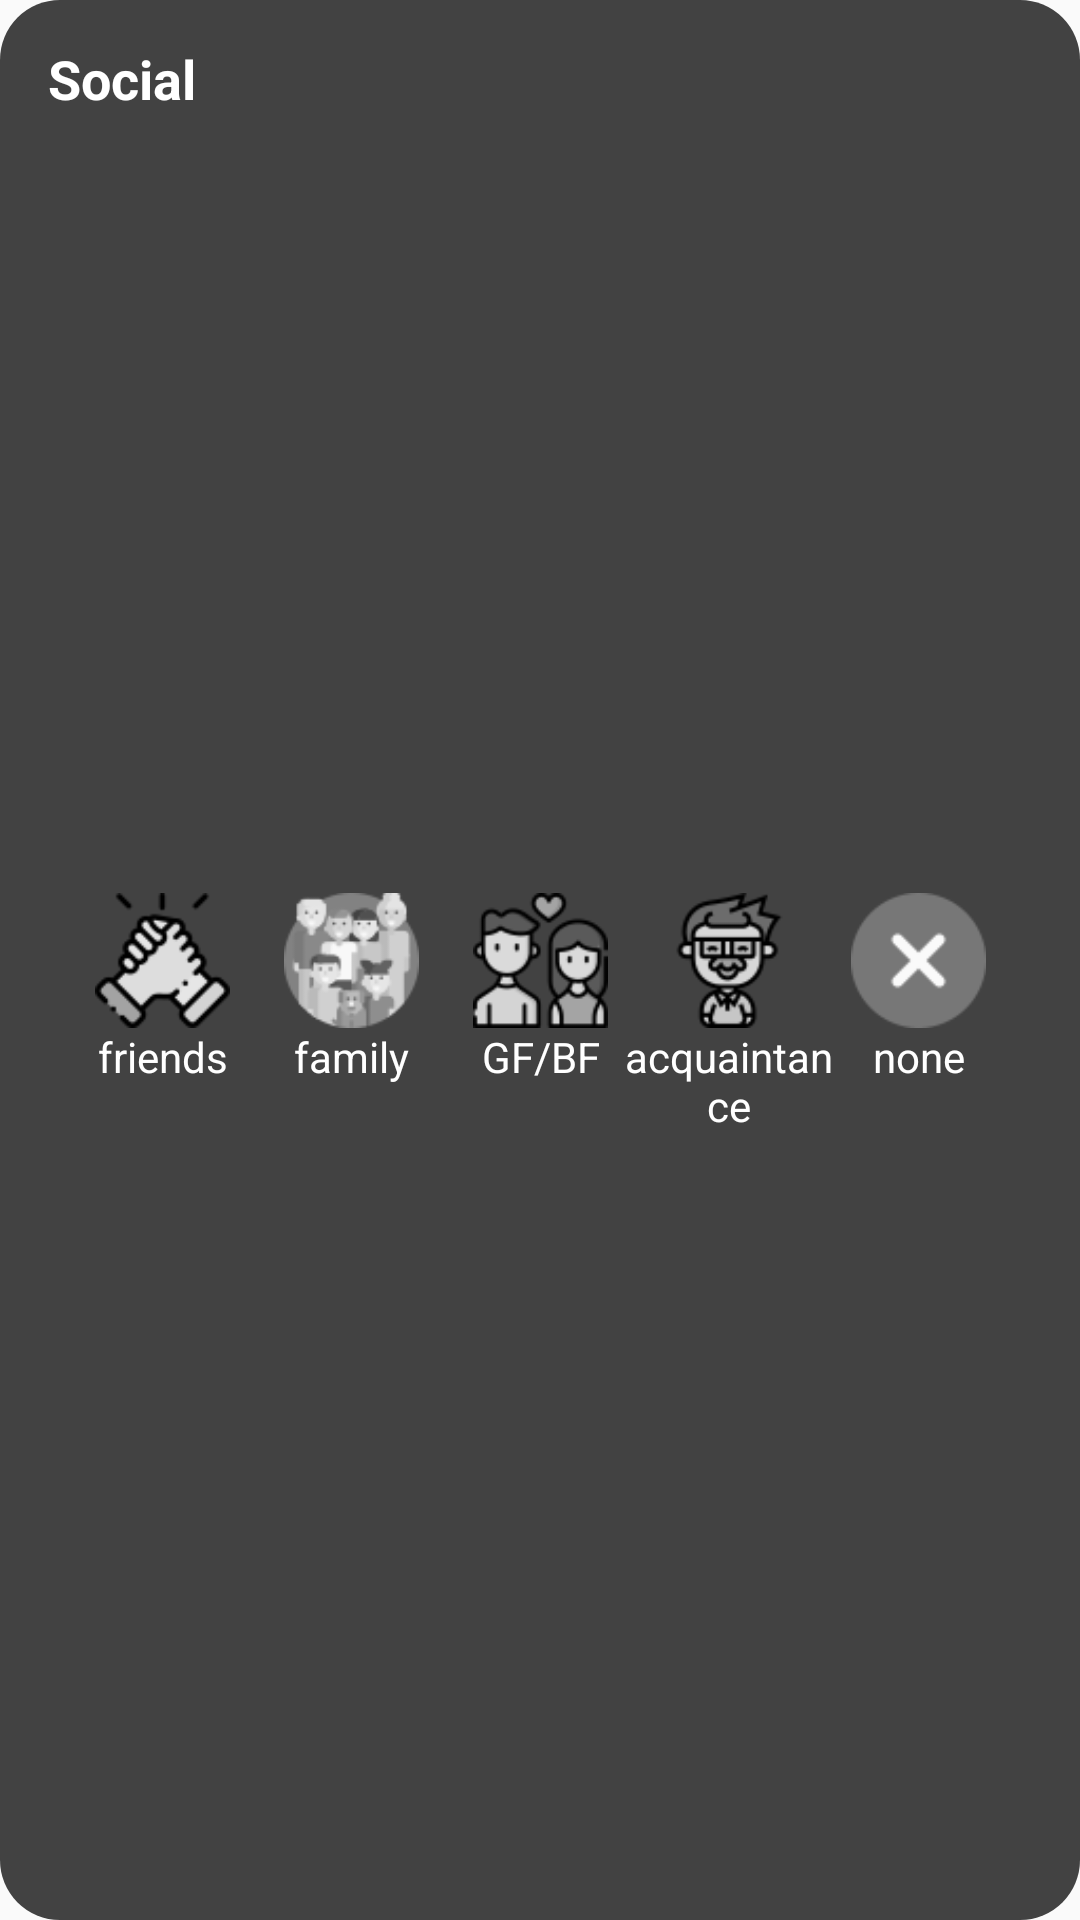

Point at icon controls on the screen. Image size 1080 x 1920, points as [x,y].
love modified: [540,960]
